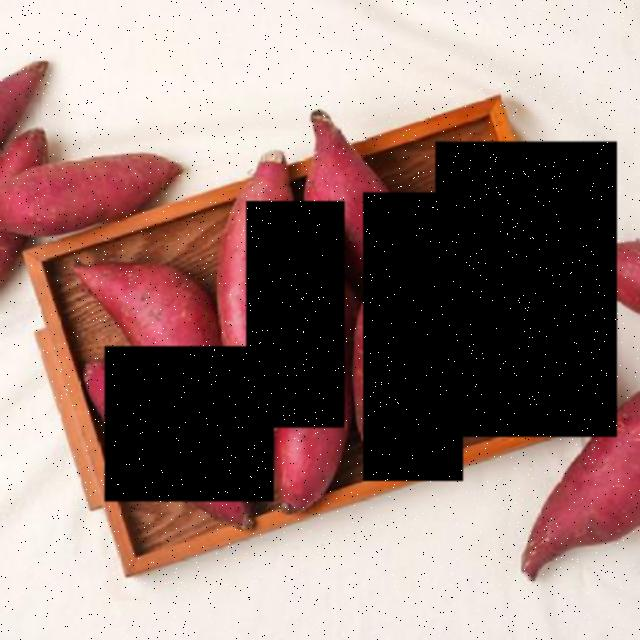Sweet_Potato: (435, 141, 617, 437), (363, 192, 463, 480), (104, 346, 274, 502), (247, 200, 345, 428)
